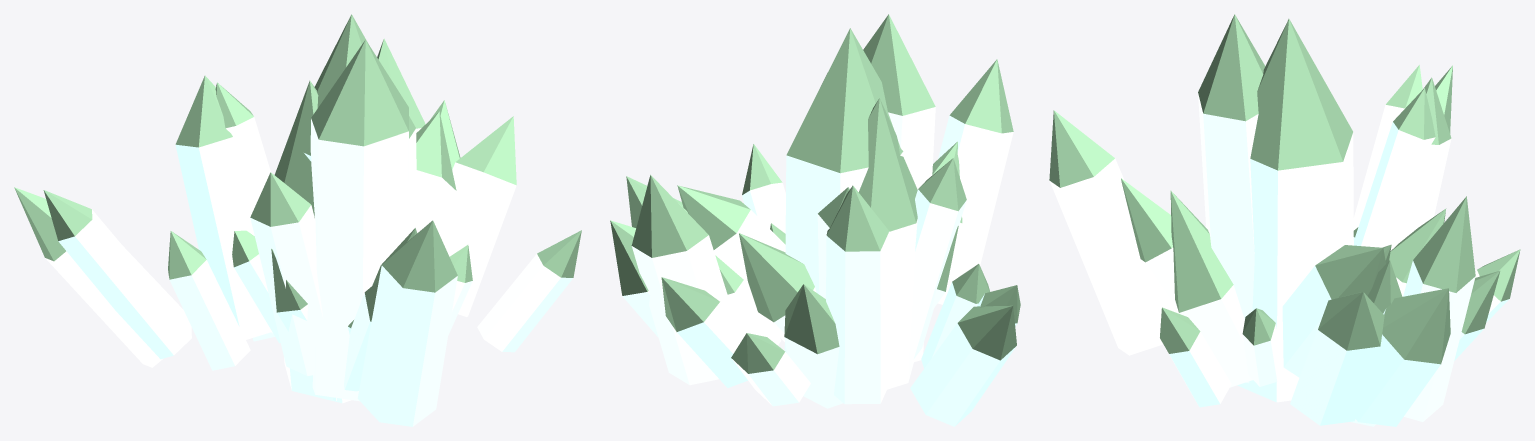
The model's file is druse_uranium.fbx.
3 renders of one model, left to right at view 1: azimuth 30°, elevation 25°; view 2: azimuth 150°, elevation 25°; view 3: azimuth 270°, elevation 25°, orthographic. The views are drawn at different scales.
Parts seen in each view (by area): view 1: druse_uranium; view 2: druse_uranium; view 3: druse_uranium.
Part boxes in pixels (x1=…): druse_uranium: x1=14, y1=14, x2=581, y2=426; druse_uranium: x1=610, y1=14, x2=1020, y2=426; druse_uranium: x1=1049, y1=14, x2=1520, y2=426.
Bounding box in the file's own units: 0.3297 × 0.2508 × 0.298.
